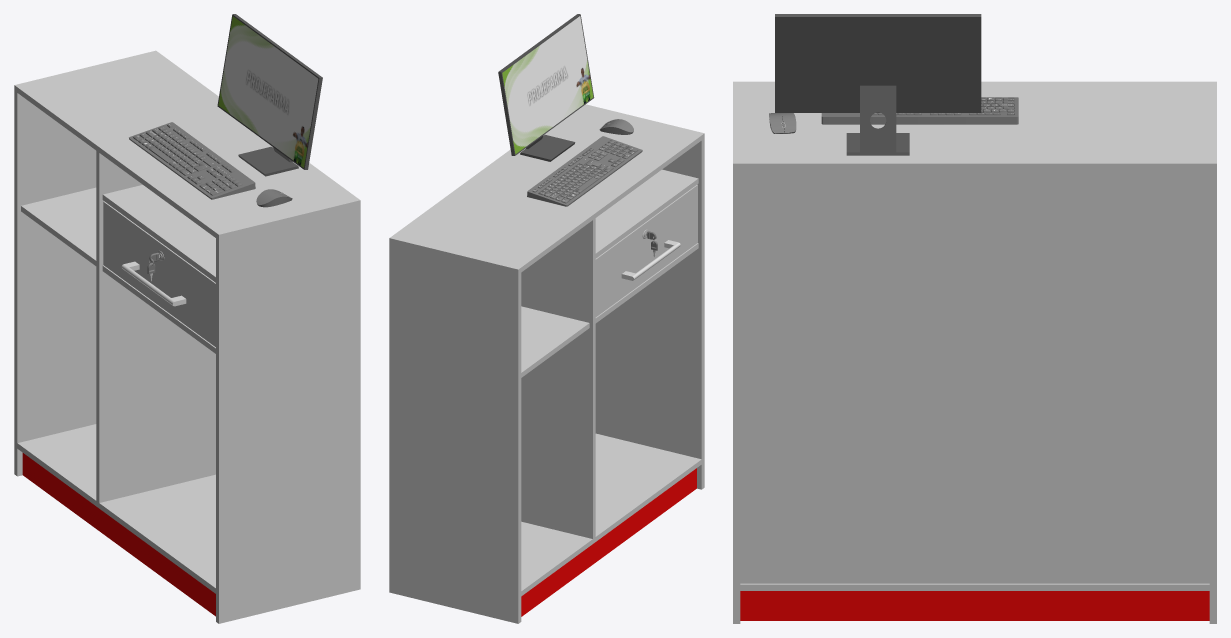
File: Caixa 1,00.glb
3 views of the same model, side by side, from view 1: azimuth 30°, elevation 25°; view 2: azimuth 150°, elevation 25°; view 3: azimuth 270°, elevation 25° (orthographic). The views are drawn at different scales.
Parts seen in each view (by area): view 1: Geom3D_ (×9), Geom3D (×6); view 2: Geom3D_ (×9), Geom3D (×6); view 3: Geom3D_ (×5), Geom3D (×6).
Part boxes in pixels (x1,y1,x2,y2): Geom3D_ (×9): (14, 50, 360, 623); Geom3D (×6): (22, 14, 322, 616); Geom3D_ (×9): (389, 104, 704, 623); Geom3D (×6): (498, 14, 696, 616); Geom3D_ (×5): (733, 81, 1216, 623); Geom3D (×6): (740, 14, 1209, 620).
Size of the model in its own units: 0.4281 by 1.36 by 1.
Materials: 14 (1 with a texture image).
